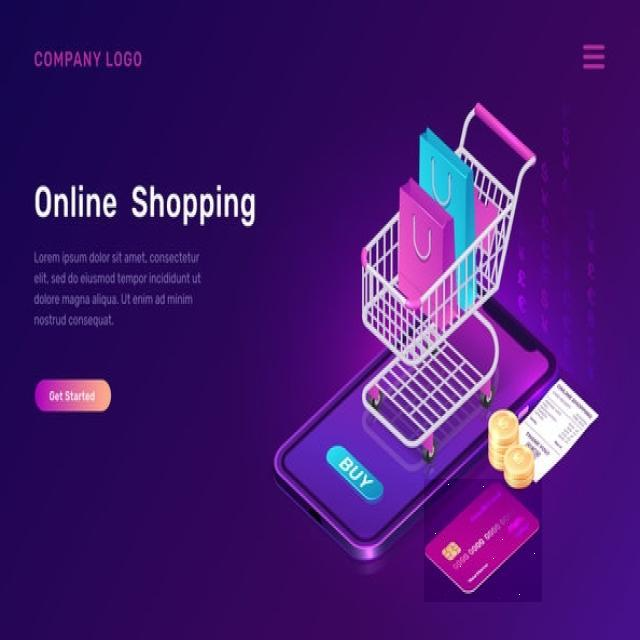payment_card: (423, 479, 540, 594)
